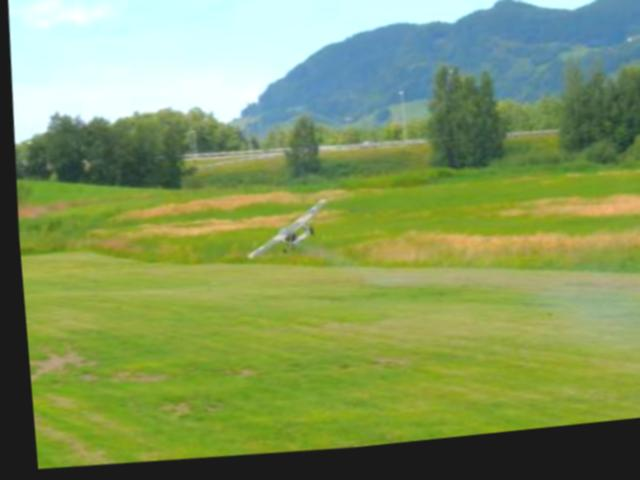uav: (235, 202, 325, 271)
